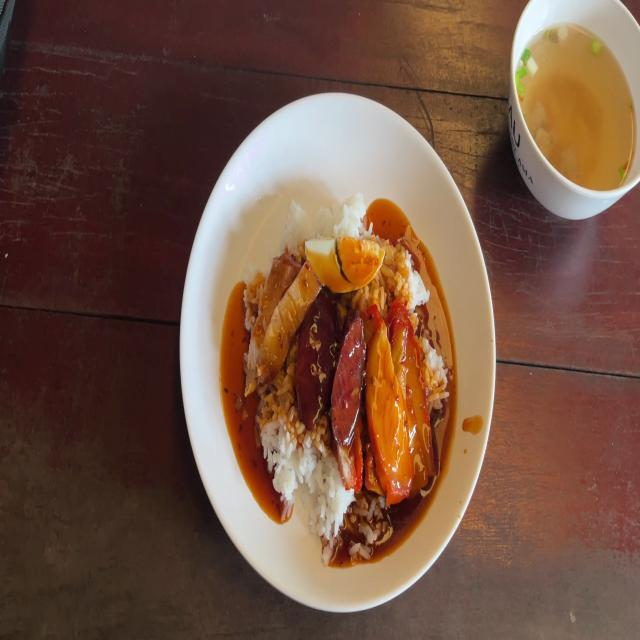01boiled_egg: (303, 236, 388, 288)
01chainese_sausage: (300, 298, 362, 433), (302, 292, 341, 433), (328, 321, 364, 437)
01crispy_pork: (243, 253, 315, 380), (245, 250, 292, 370), (258, 275, 316, 371)
01red_pork: (368, 316, 432, 482), (368, 316, 407, 496), (399, 308, 434, 481), (336, 444, 366, 491)
01red_pork_and_crispy_pork: (243, 192, 448, 558)
01rice: (260, 381, 299, 494), (301, 442, 342, 539), (383, 238, 424, 316), (287, 197, 368, 236)
